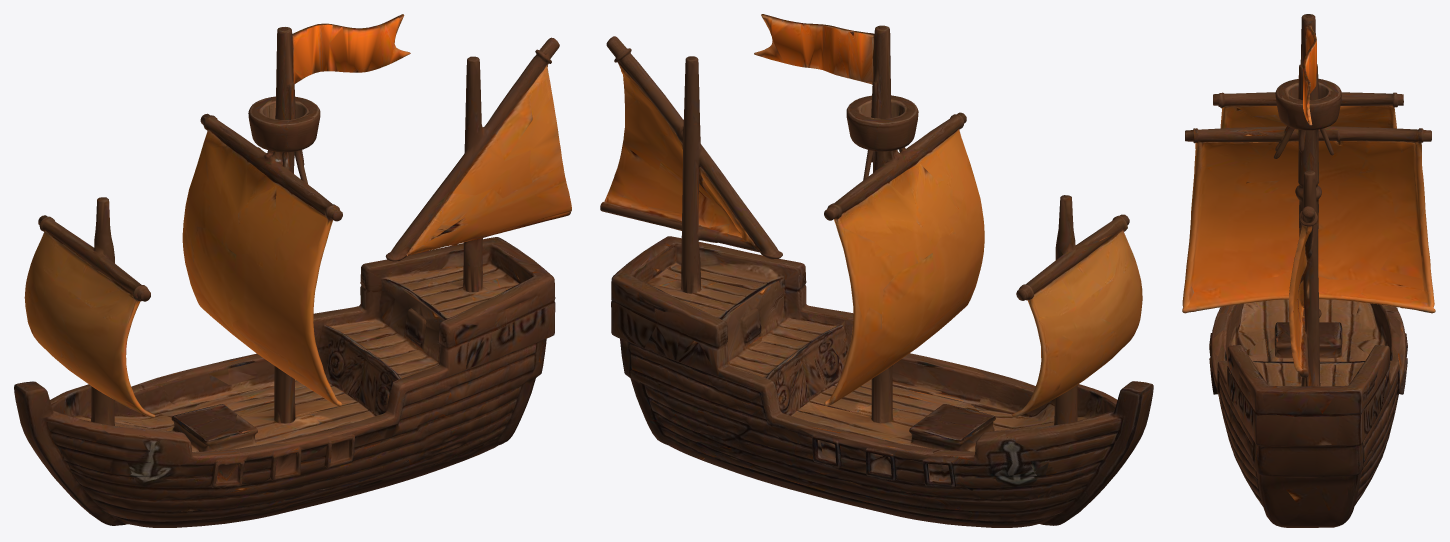
The model's file is m_fortune_animated.glb.
3 renders of one model, left to right at view 1: azimuth 30°, elevation 25°; view 2: azimuth 150°, elevation 25°; view 3: azimuth 270°, elevation 25°, orthographic. The views are drawn at different scales.
Parts seen in each view (by area): view 1: m_fortune_Living_Scenery; view 2: m_fortune_Living_Scenery; view 3: m_fortune_Living_Scenery.
Boxes of the visible parts, x1,y1,x2,y2 form: m_fortune_Living_Scenery: [14, 14, 571, 527]; m_fortune_Living_Scenery: [600, 14, 1153, 527]; m_fortune_Living_Scenery: [1182, 14, 1435, 527].
Bounding box in the file's own units: 0.9997 × 0.7948 × 0.4329.
1 material, 1 textured.
